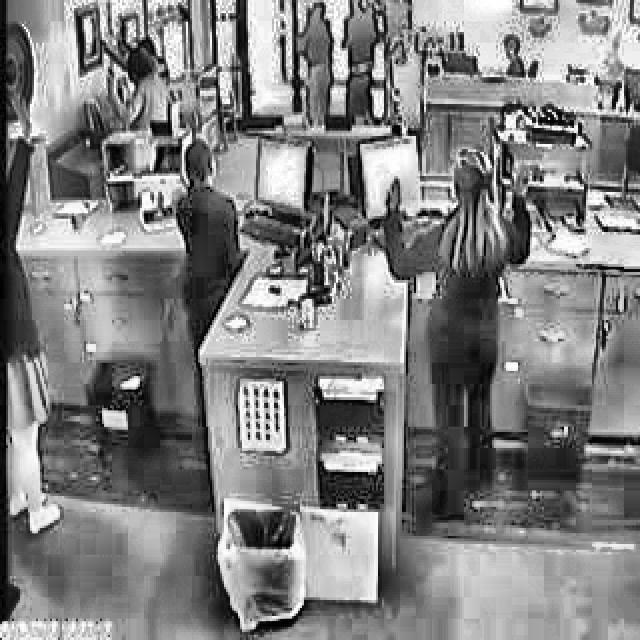robbery: (379, 145, 537, 287), (98, 25, 181, 129)
